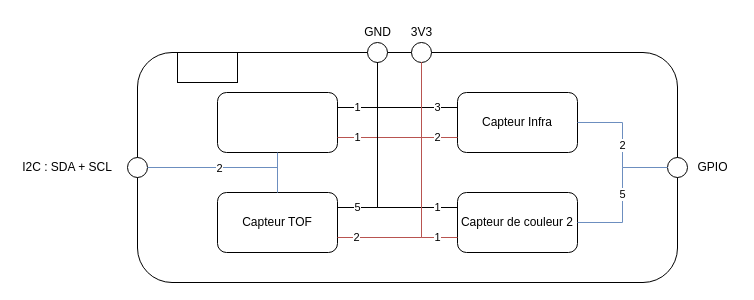
Image size: 754x300. Some labels were removed from this diagram. The shapes that lost their labels are listed below. From the top down, each one's centre as x and y in pixels, then its label:
[207,67]: Capteurs
[277,122]: Capteur de couleur
